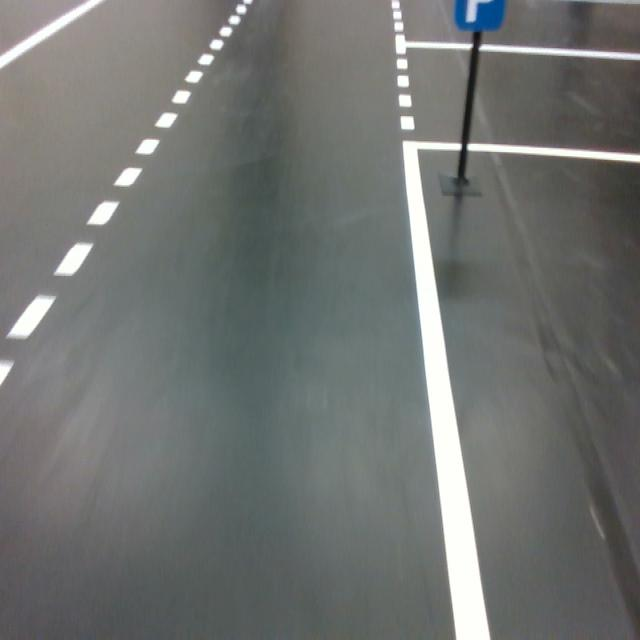parking-sign: (453, 0, 506, 31)
